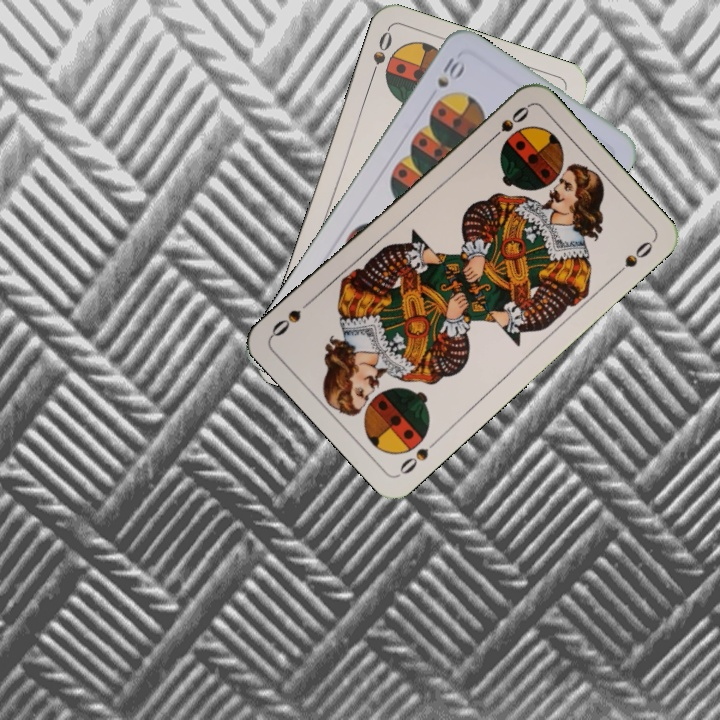S10: (433, 51, 466, 91)
SO: (483, 102, 532, 146), (395, 434, 443, 477), (365, 27, 395, 84)
